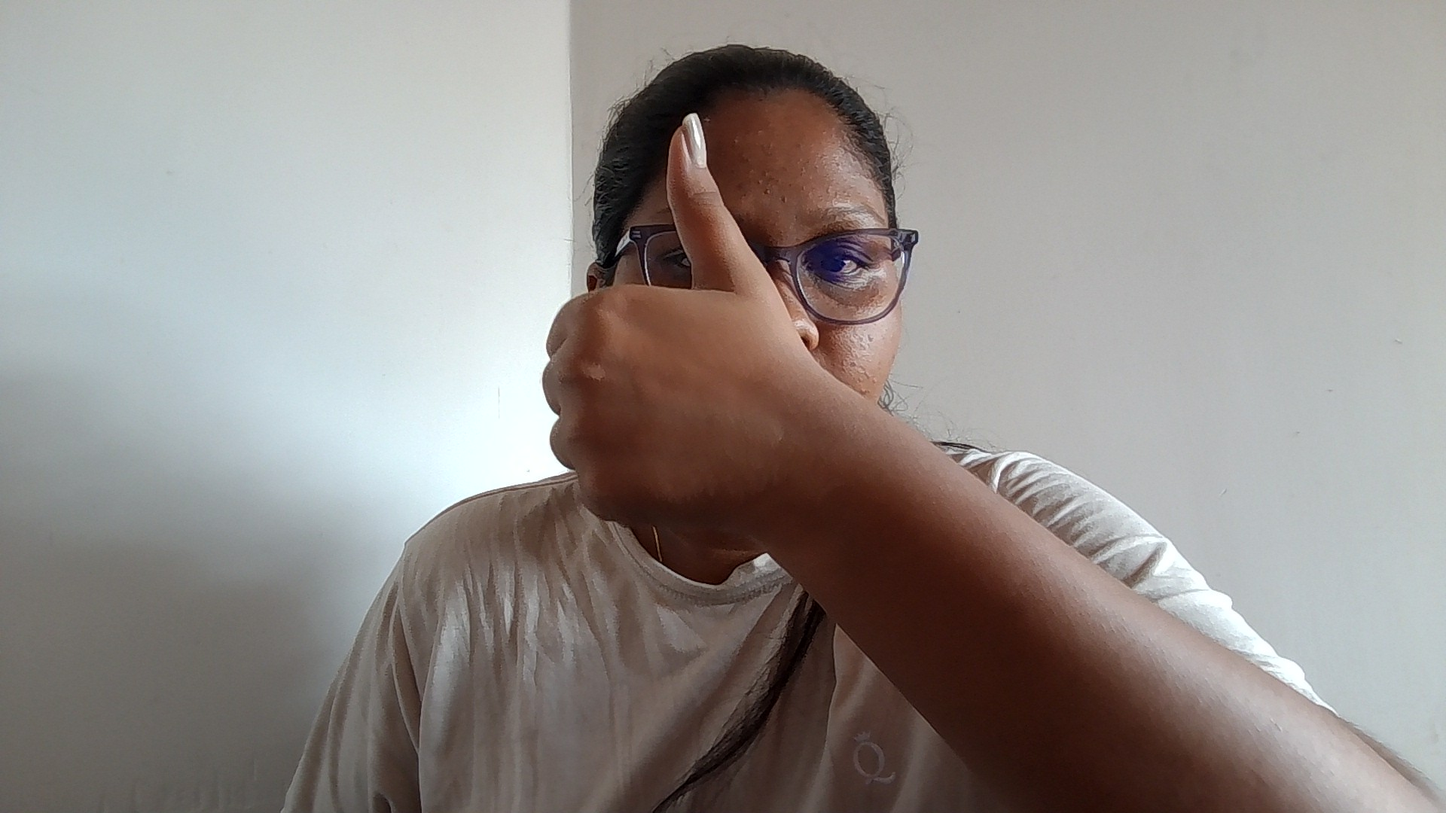Thumbs Up: (512, 66, 956, 712)
